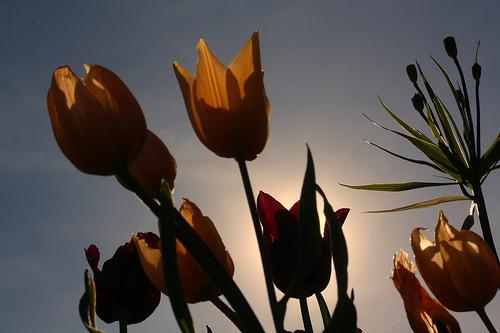tulip: (172, 29, 273, 162), (46, 62, 143, 172), (411, 210, 500, 313)
